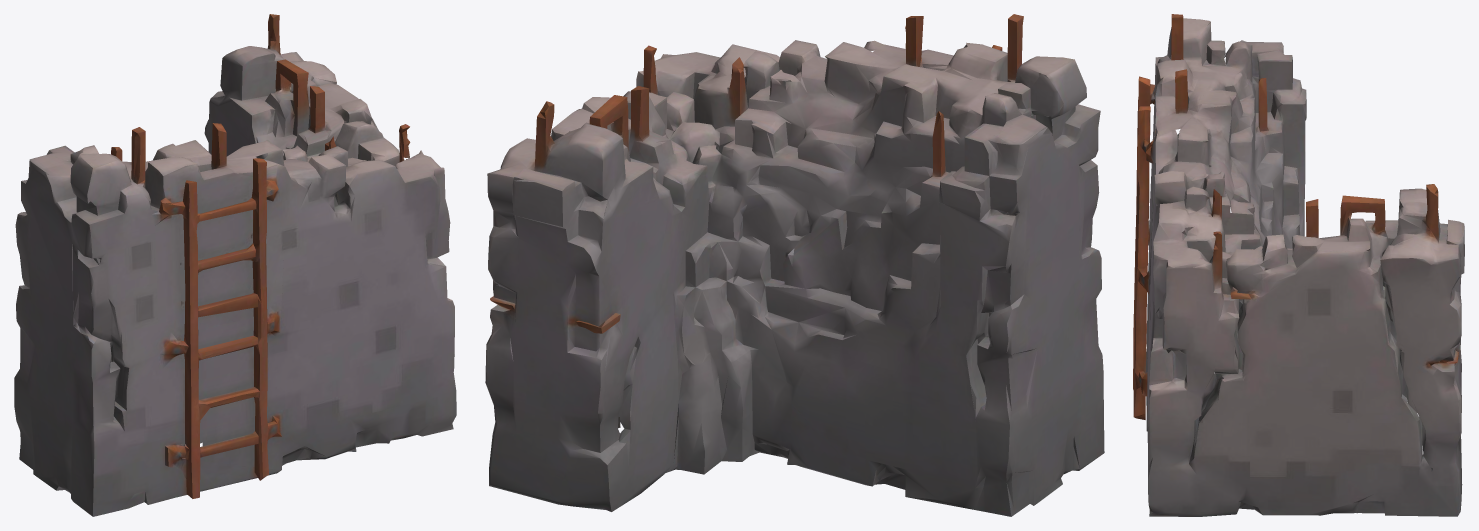
The model's file is building_corner.glb.
3 views of the same model, side by side, from view 1: azimuth 30°, elevation 25°; view 2: azimuth 150°, elevation 25°; view 3: azimuth 270°, elevation 25° (orthographic). The views are drawn at different scales.
Visible parts, largest first — view 1: body; view 2: body; view 3: body.
Boxes of the visible parts, left/top/right/bottom form: body: left=14, top=14, right=456, bottom=516; body: left=485, top=14, right=1104, bottom=516; body: left=1133, top=14, right=1464, bottom=516.
Size of the model in its own units: 3.17 by 3 by 2.53.
1 material, 1 textured.
